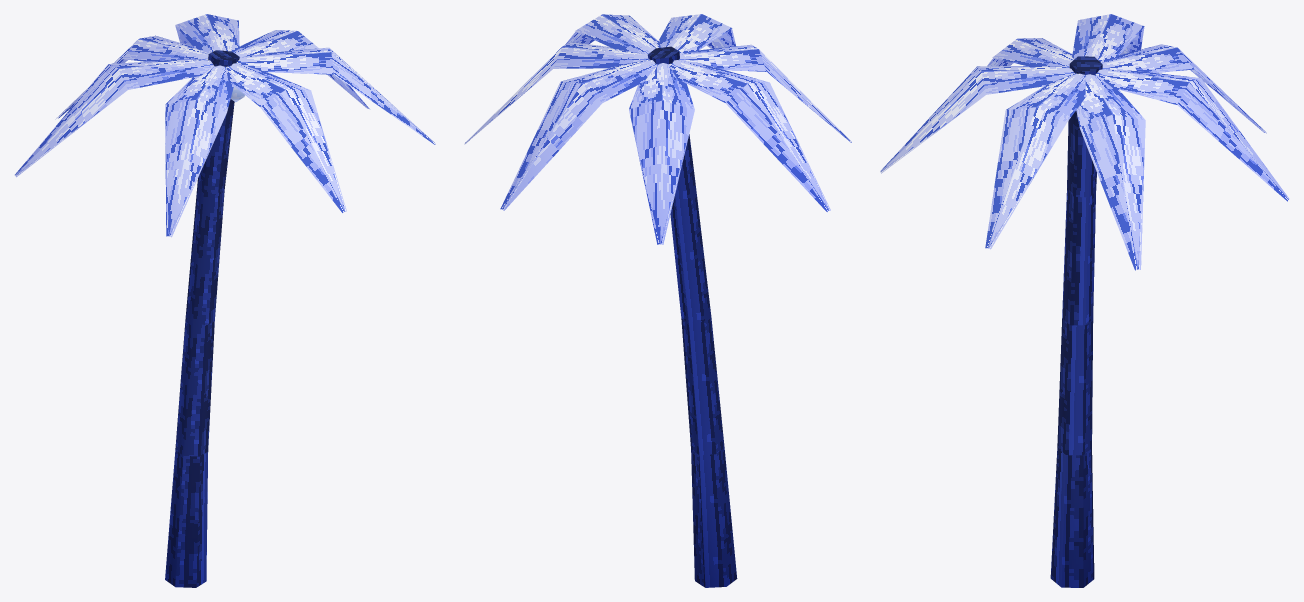
The model's file is wild.palm.glb.
The picture shows the model from 3 angles, left to right: view 1: azimuth 30°, elevation 25°; view 2: azimuth 150°, elevation 25°; view 3: azimuth 270°, elevation 25°; orthographic projection. The views are drawn at different scales.
Visible parts, largest first — view 1: kit_shell_crown, kit_trunk; view 2: kit_shell_crown, kit_trunk; view 3: kit_shell_crown, kit_trunk.
Boxes of the visible parts, x1,y1,x2,y2 form: kit_shell_crown: (15,14,435,237); kit_trunk: (165,50,239,587); kit_shell_crown: (464,14,851,244); kit_trunk: (647,46,737,587); kit_shell_crown: (880,14,1289,270); kit_trunk: (1050,56,1102,587).
Bounding box in the file's own units: 4.76 × 6.54 × 4.48.
Materials: 3 (3 with a texture image).
